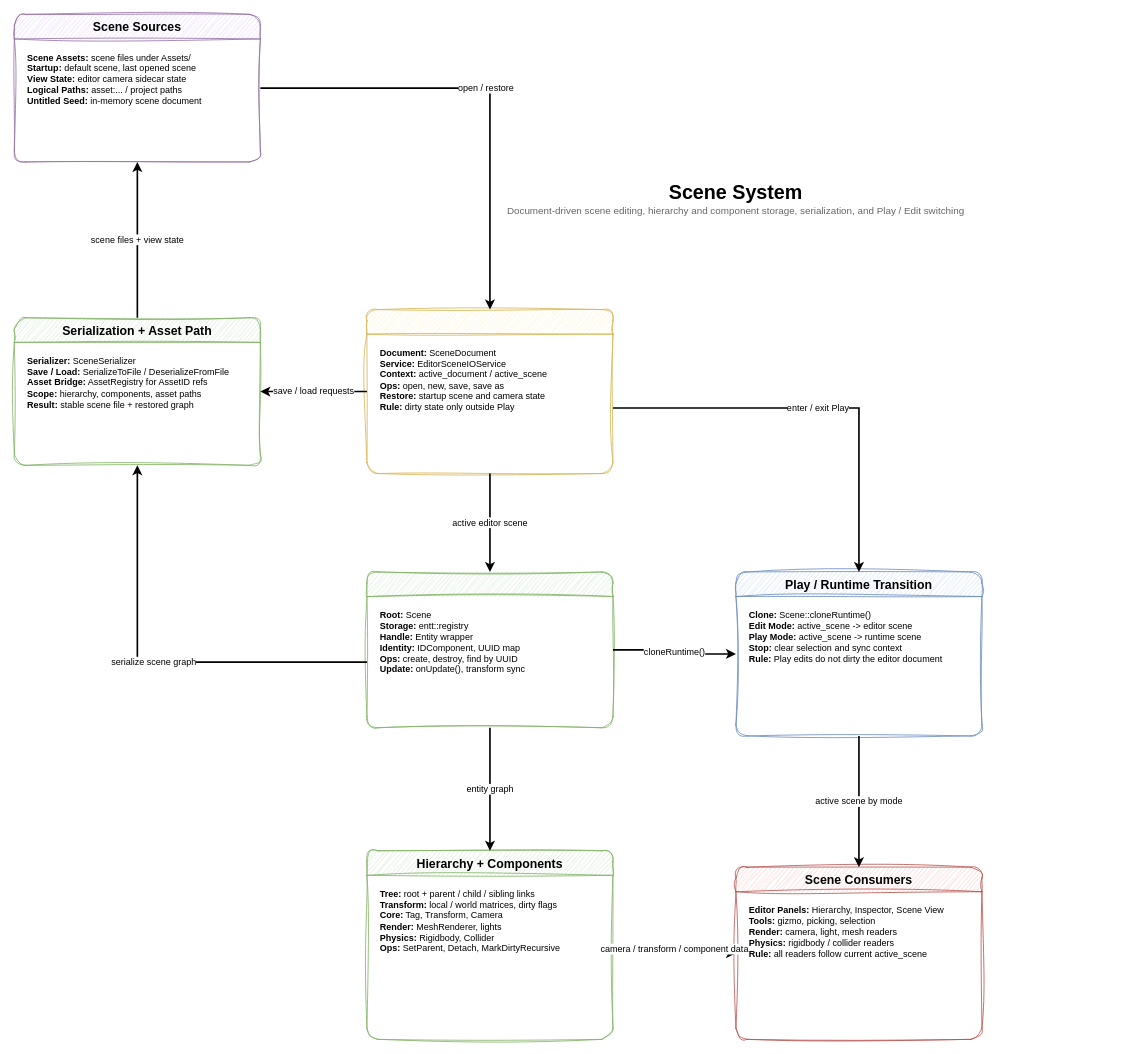
Image size: 1144x1054. Some labels were removed from this diagram. The shapes that lost their labels are listed below. From the top down, each one's box as (x1, y1, x2, y2) in pixels, then its label:
(366, 309, 613, 474): Editor Scene Layer
(366, 571, 613, 728): Scene Core
